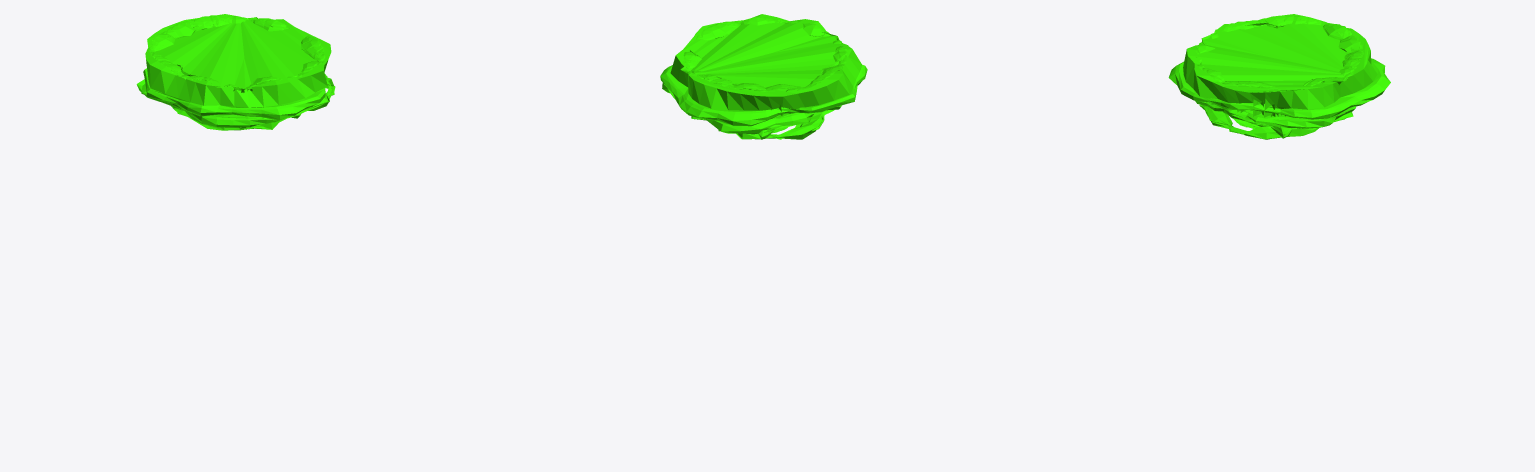
The model's file is crush_high_1.obj.
The picture shows the model from 3 angles, left to right: view 1: azimuth 30°, elevation 25°; view 2: azimuth 150°, elevation 25°; view 3: azimuth 270°, elevation 25°; orthographic projection.
Parts seen in each view (by area): view 1: model; view 2: model; view 3: model.
Boxes of the visible parts, x1,y1,x2,y2 form: model: (136, 14, 335, 130); model: (660, 14, 867, 139); model: (1168, 14, 1390, 139).
Size of the model in its own units: 0.1127 by 0.0892 by 0.1217.
Materials: 1 (1 with a texture image).
